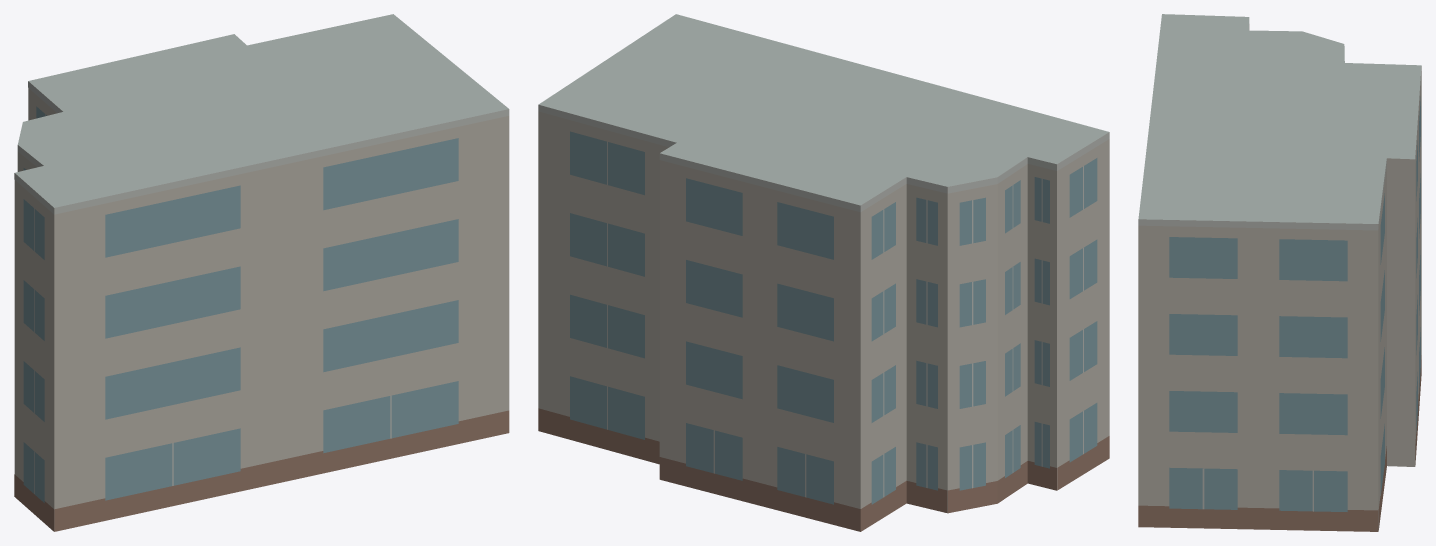
The model's file is survey-upis-32763921.glb.
The picture shows the model from 3 angles, left to right: view 1: azimuth 30°, elevation 25°; view 2: azimuth 150°, elevation 25°; view 3: azimuth 270°, elevation 25°; orthographic projection. The views are drawn at different scales.
Parts seen in each view (by area): view 1: survey-upis-32763921.tmp; view 2: survey-upis-32763921.tmp; view 3: survey-upis-32763921.tmp.
Boxes of the visible parts, x1=… form: survey-upis-32763921.tmp: x1=14, y1=14, x2=509, y2=531; survey-upis-32763921.tmp: x1=538, y1=14, x2=1109, y2=531; survey-upis-32763921.tmp: x1=1138, y1=14, x2=1421, y2=531.
Bounding box in the file's own units: 17.28 × 11.8 × 9.85.
